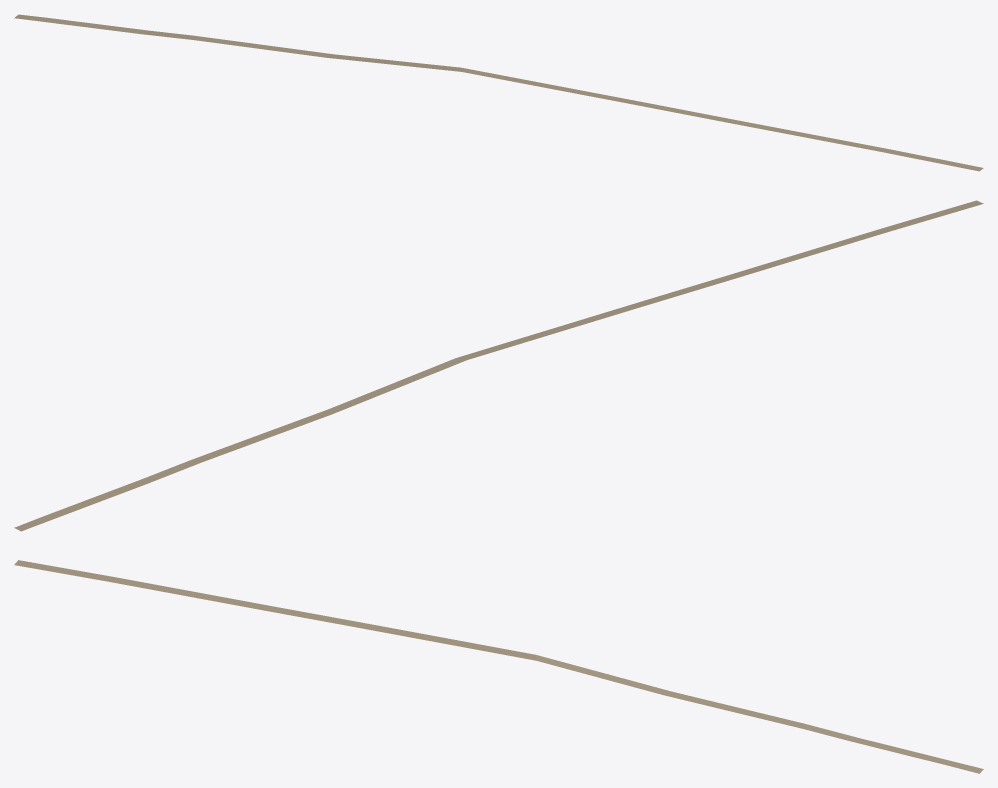
File: farm_22_24_track.glb
3 views of the same model, one above another, from view 1: azimuth 90°, elevation 25°; view 2: azimuth 150°, elevation 25°; view 3: azimuth 270°, elevation 25° (orthographic). The views are drawn at different scales.
Parts seen in each view (by area): view 1: geometry_0; view 2: geometry_0; view 3: geometry_0.
Boxes of the visible parts, x1=… form: geometry_0: x1=14, y1=14, x2=983, y2=171; geometry_0: x1=14, y1=200, x2=983, y2=531; geometry_0: x1=14, y1=560, x2=983, y2=773.
Size of the model in its own units: 131 by 10.16 by 290.
